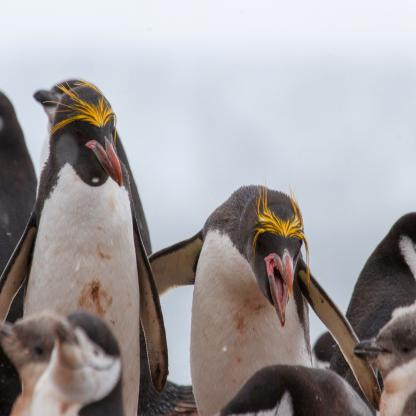Penguin: (146, 148, 398, 416), (1, 58, 167, 416), (1, 300, 142, 416)
